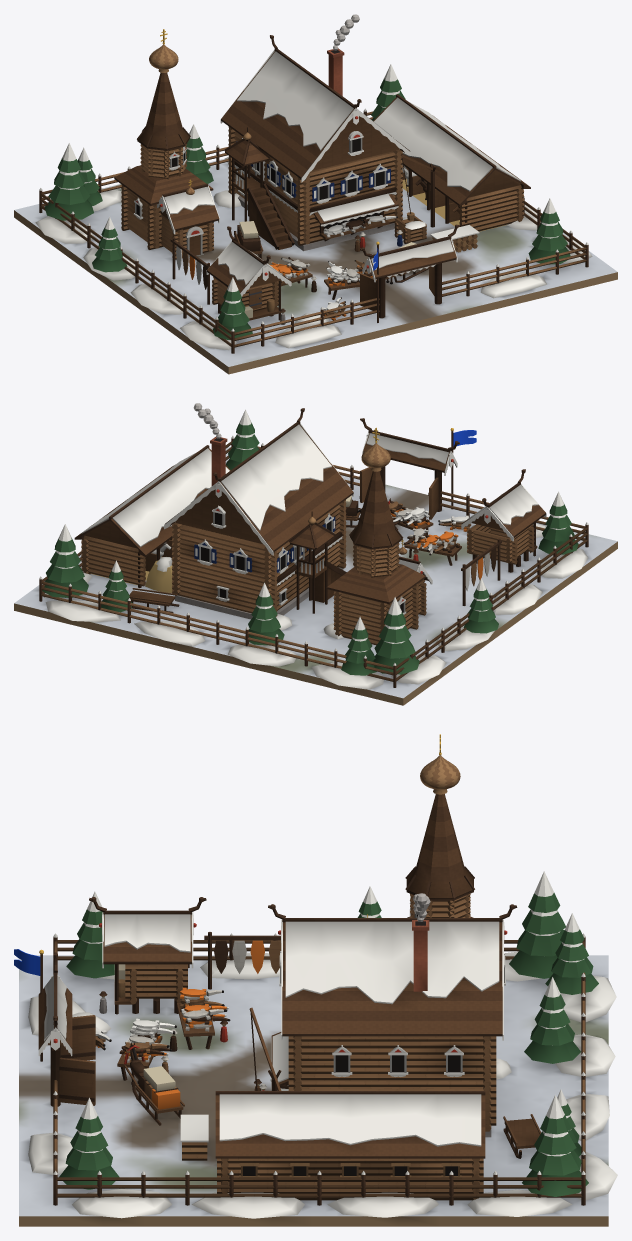
Rendered from lm_kurkpazari.glb.
3 renders of one model, top to bottom at view 1: azimuth 30°, elevation 25°; view 2: azimuth 150°, elevation 25°; view 3: azimuth 270°, elevation 25°, orthographic. The views are drawn at different scales.
Visible parts, largest first — view 1: lm_kurkpazari; view 2: lm_kurkpazari; view 3: lm_kurkpazari.
Boxes of the visible parts, bbox=[...] form: lm_kurkpazari: bbox=[14, 14, 617, 374]; lm_kurkpazari: bbox=[14, 403, 617, 705]; lm_kurkpazari: bbox=[14, 734, 617, 1226].
Size of the model in its own units: 2.26 by 1.14 by 2.15.
1 material, 1 textured.
